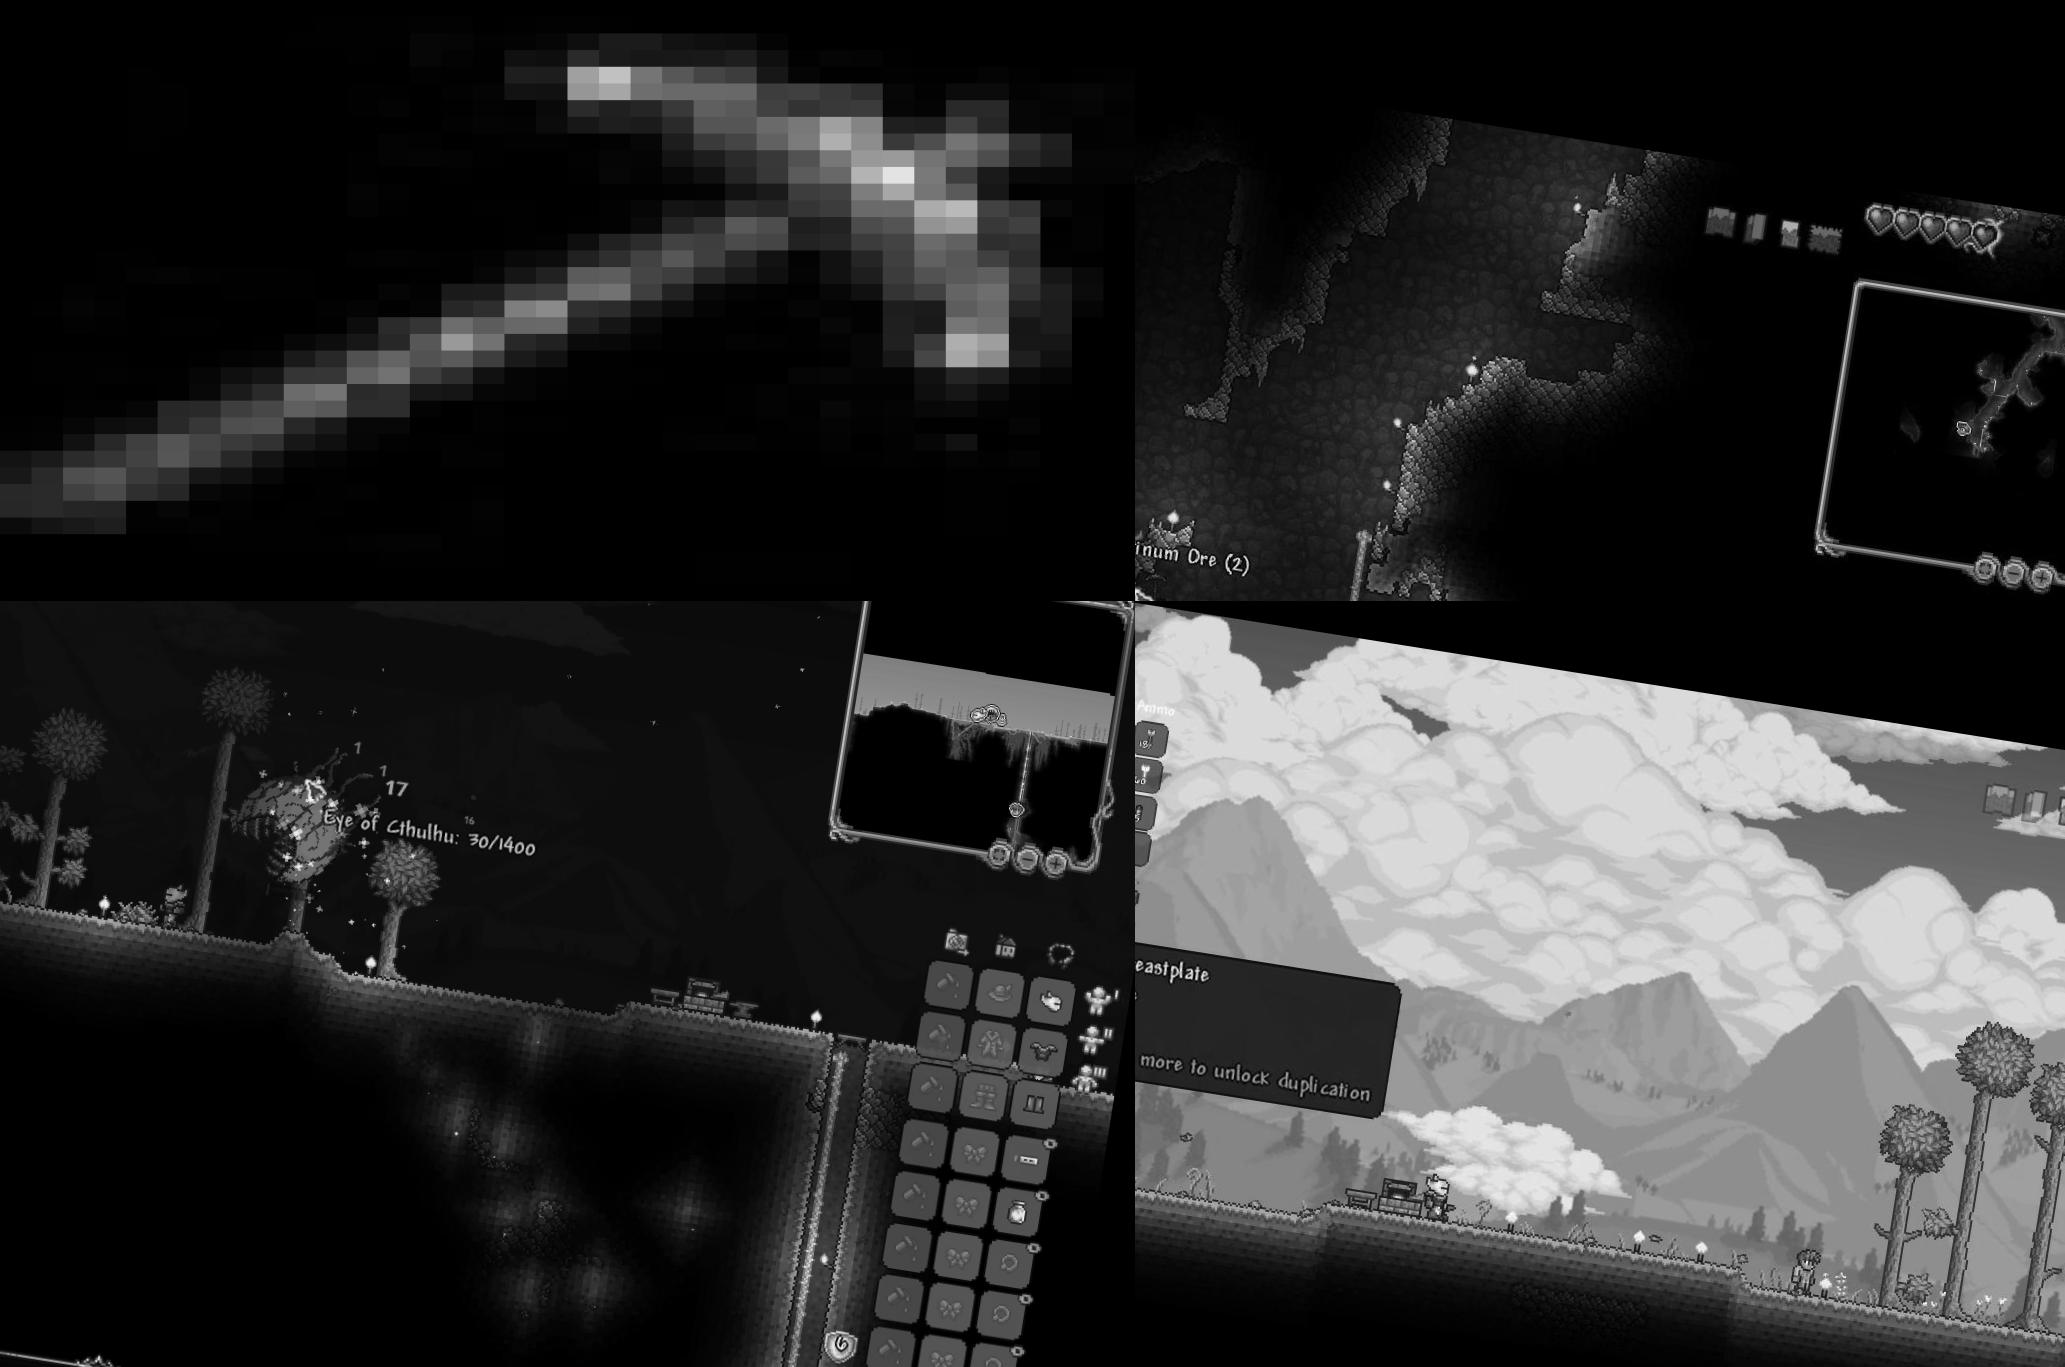eyeC: (229, 731, 397, 899)
heart: (1862, 201, 1897, 236)
pickaxe: (0, 0, 1135, 601)
